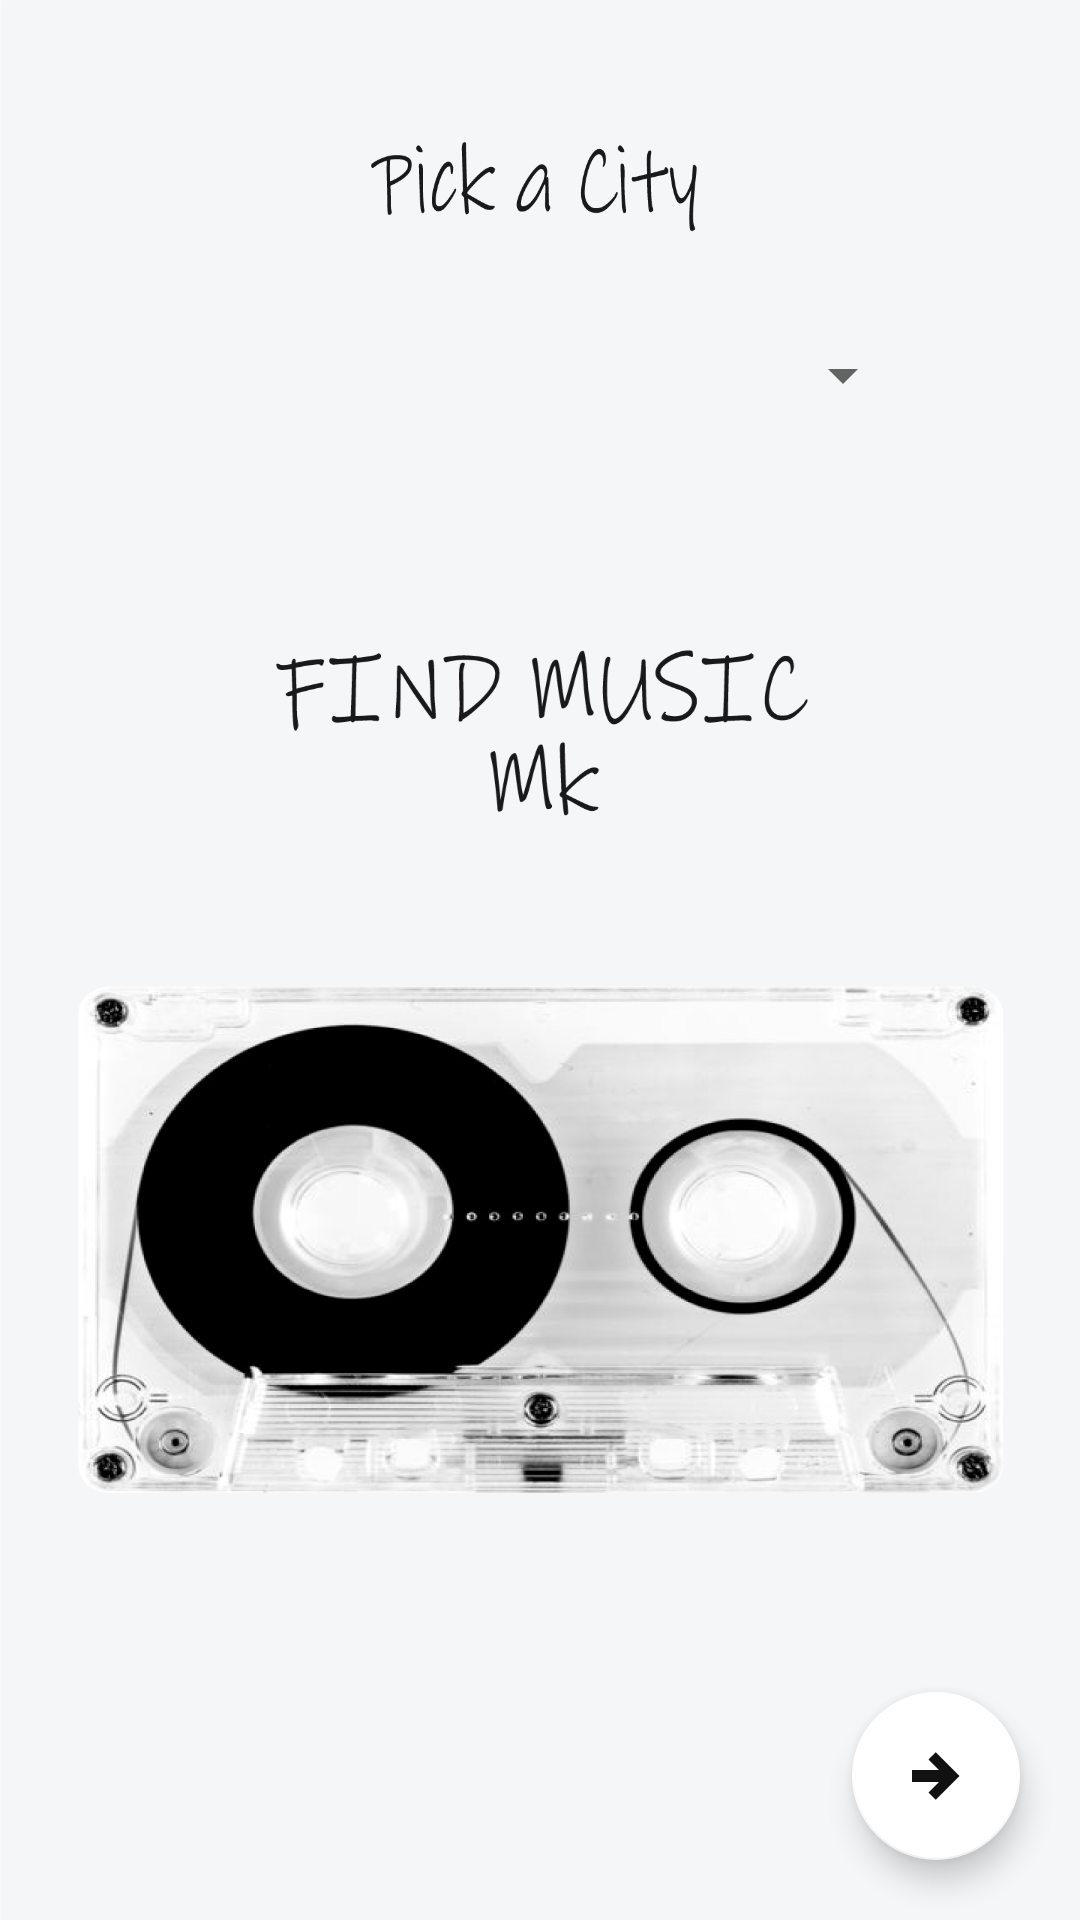

Locate icon controls on the screen. Image size 1080x1920, boxes as (x1, y1, x2, y2).
arrow right: (852, 1692, 1020, 1860)
